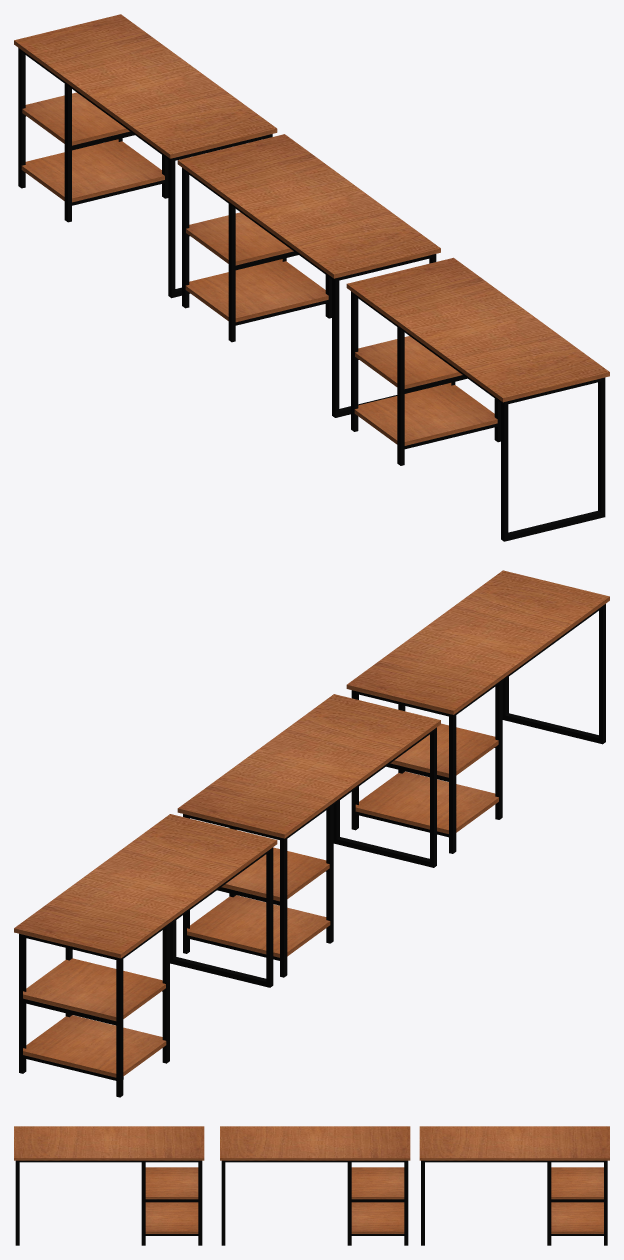
File: mesa-computador-mdl.glb
3 views of the same model, one above another, from view 1: azimuth 30°, elevation 25°; view 2: azimuth 150°, elevation 25°; view 3: azimuth 270°, elevation 25° (orthographic). The views are drawn at different scales.
Visible parts, largest first — view 1: Cube.002, Cube.001, Cube.003; view 2: Cube.003, Cube.002, Cube.001; view 3: Cube.002, Cube.001, Cube.003.
Boxes of the visible parts, left/top/right/bottom form: Cube.002: left=346, top=257, right=609, bottom=541; Cube.001: left=177, top=134, right=440, bottom=417; Cube.003: left=14, top=14, right=277, bottom=298; Cube.003: left=14, top=814, right=277, bottom=1097; Cube.002: left=346, top=570, right=609, bottom=853; Cube.001: left=177, top=694, right=440, bottom=977; Cube.002: left=14, top=1126, right=204, bottom=1245; Cube.001: left=220, top=1126, right=410, bottom=1245; Cube.003: left=419, top=1126, right=609, bottom=1245.
Size of the model in its own units: 0.6518 by 0.8449 by 5.16.
2 materials, 1 textured.
